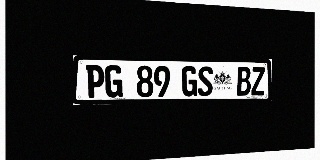8: (137, 65, 153, 97)
9: (154, 66, 170, 97)
B: (237, 67, 251, 96)
G: (105, 65, 123, 98), (182, 66, 197, 96)
P: (86, 65, 104, 98)
S: (198, 66, 213, 96)
Z: (251, 67, 265, 95)
